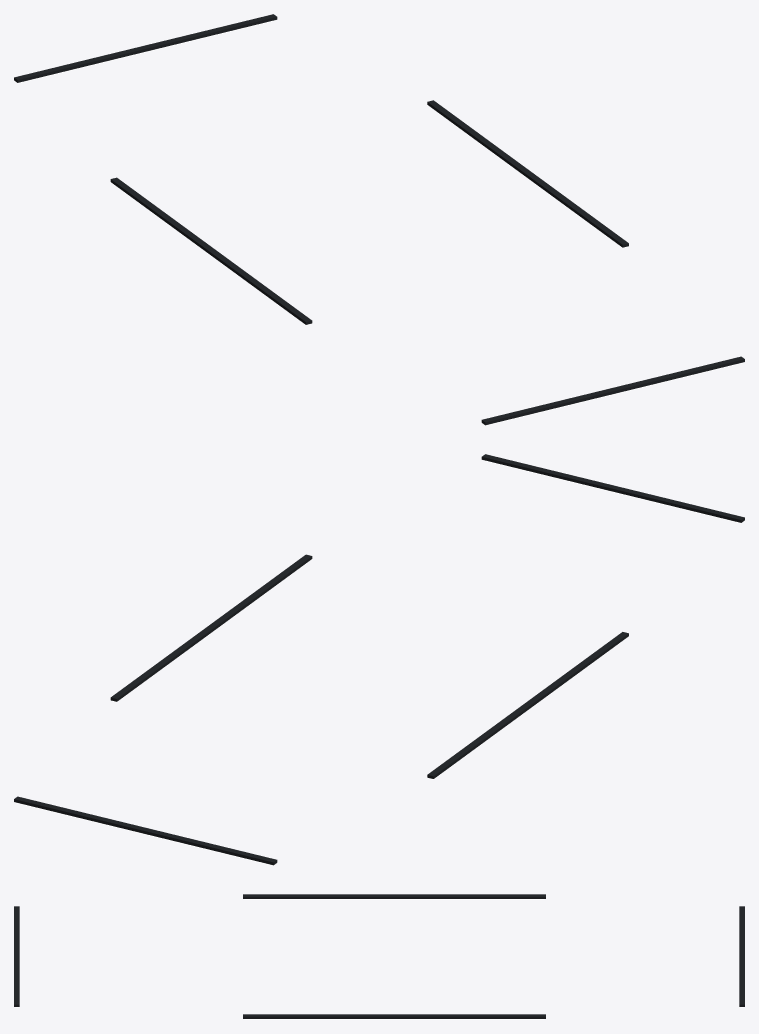
File: hana_roadster.glb
The picture shows the model from 3 angles, top to bottom: view 1: azimuth 30°, elevation 25°; view 2: azimuth 150°, elevation 25°; view 3: azimuth 270°, elevation 25°; orthographic projection. The views are drawn at different scales.
Parts seen in each view (by area): view 1: model; view 2: model; view 3: model.
Part boxes in pixels (bbox=[...]): model: bbox=[14, 14, 744, 425]; model: bbox=[14, 454, 744, 865]; model: bbox=[14, 894, 744, 1019].
Bounding box in the file's own units: 1.43 × 0.0181 × 3.61.
2 materials, 1 textured.
